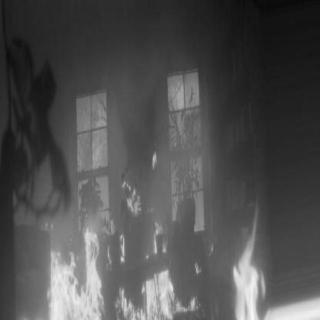Fire: (230, 207, 264, 317), (120, 158, 157, 214), (270, 293, 318, 319), (150, 140, 162, 180)
Smoke: (120, 80, 150, 148)
